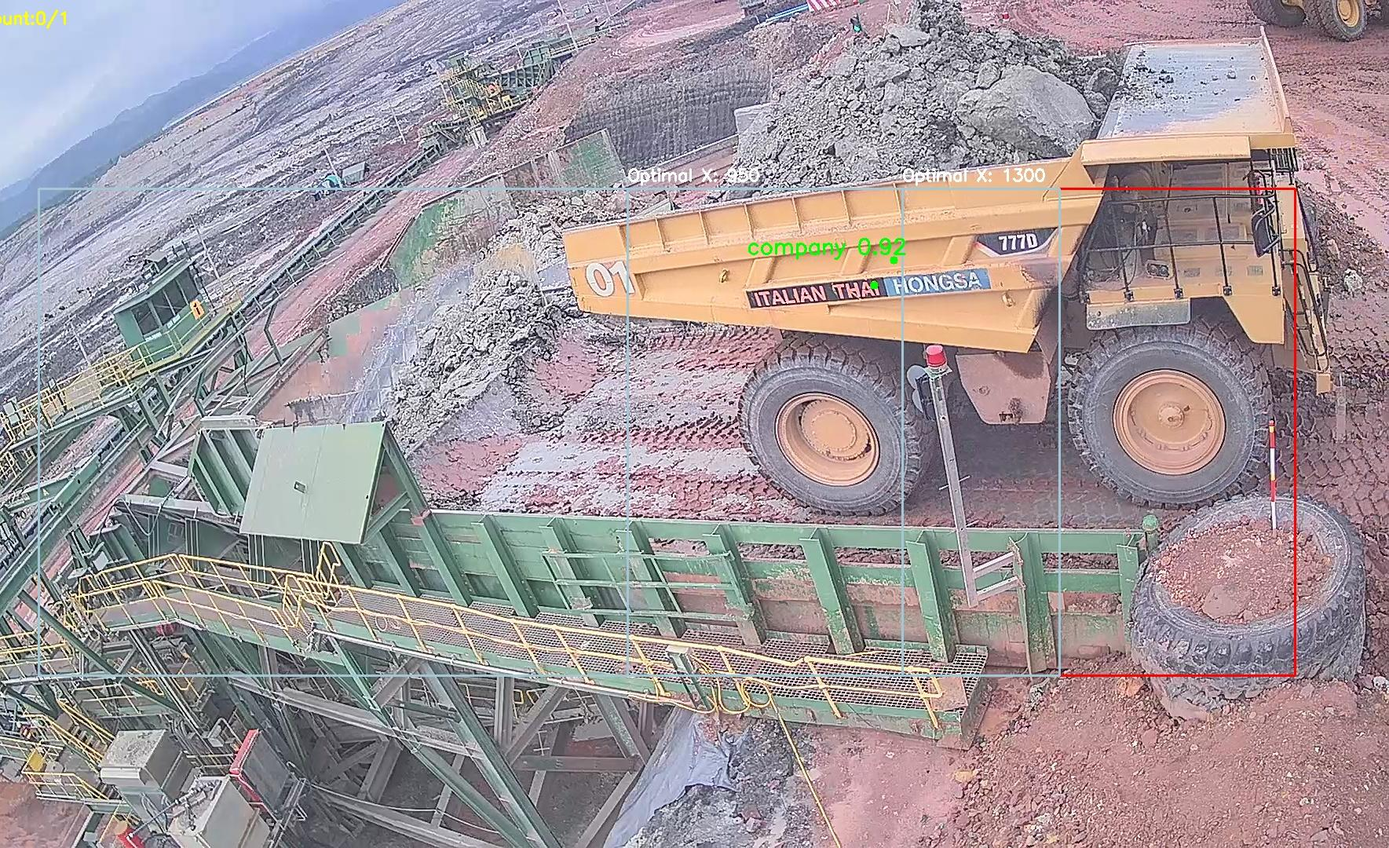company: (741, 265, 997, 312)
full_load: (753, 15, 1093, 183)
mining_truck: (552, 8, 1357, 514)
tail_number: (579, 256, 642, 303)
truck_size: (983, 225, 1048, 259)
